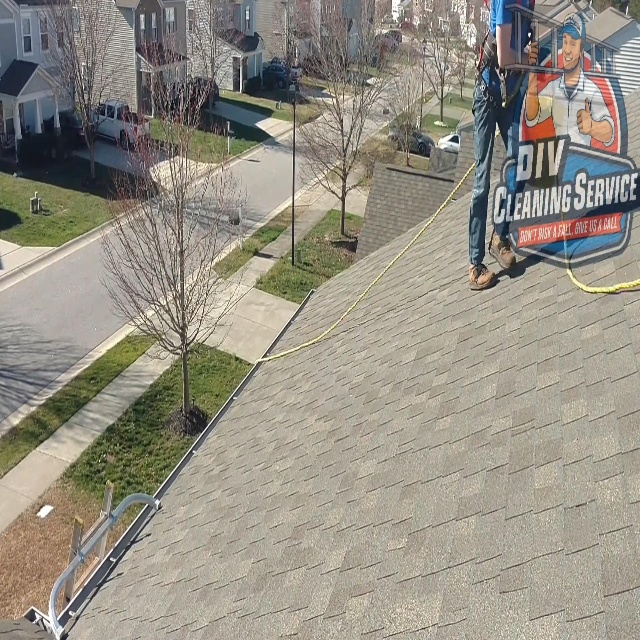Arnes_seguridad: (466, 27, 535, 123)
